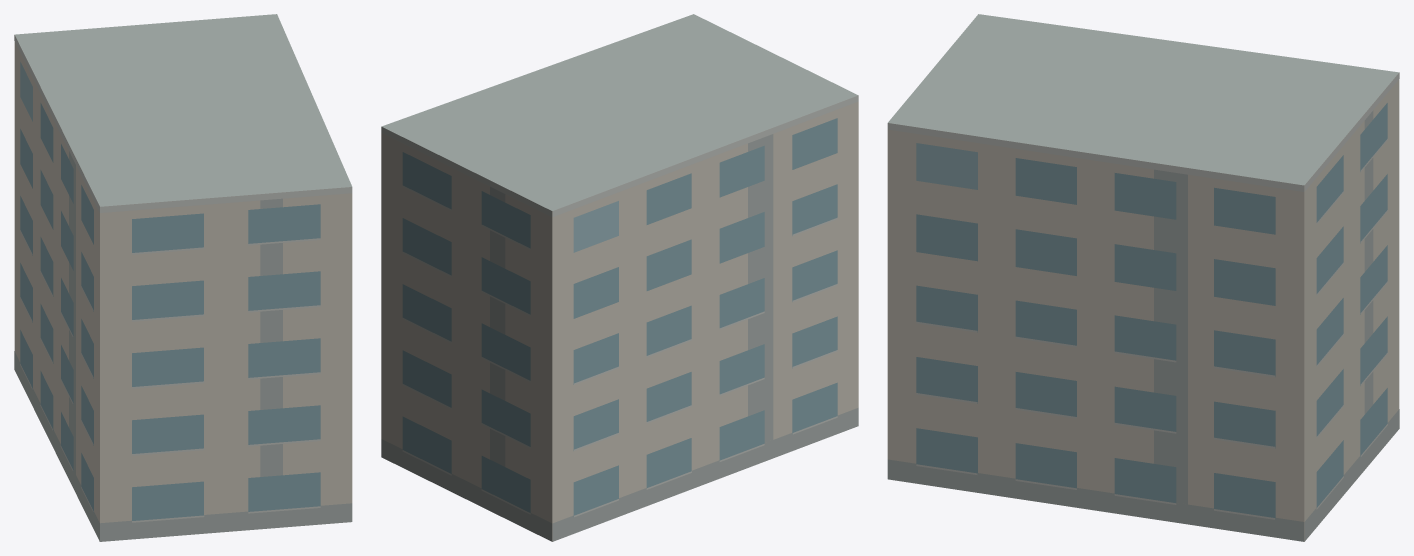
The model's file is survey-upis-32884237.glb.
3 views of the same model, side by side, from view 1: azimuth 30°, elevation 25°; view 2: azimuth 150°, elevation 25°; view 3: azimuth 270°, elevation 25° (orthographic). The views are drawn at different scales.
Parts seen in each view (by area): view 1: survey-upis-32884237.tmp; view 2: survey-upis-32884237.tmp; view 3: survey-upis-32884237.tmp.
Boxes of the visible parts, x1,y1,x2,y2 form: survey-upis-32884237.tmp: (14, 14, 352, 541); survey-upis-32884237.tmp: (381, 14, 858, 541); survey-upis-32884237.tmp: (887, 14, 1399, 541).
Size of the model in its own units: 13.42 by 13 by 16.93.
